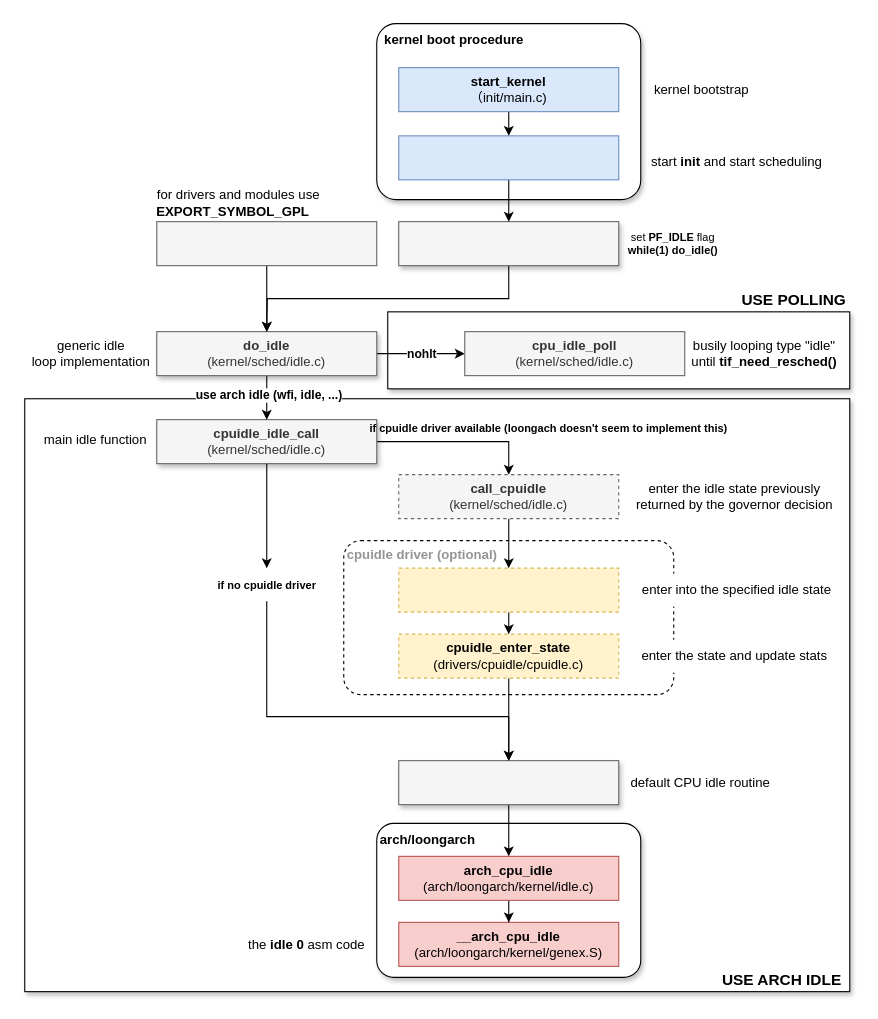
This 878x1019 diagram has some shape labels left out. The shapes that lost their labels are listed below. From the top down, each one's centre as x and y in pixels, then its label:
the point at 508,157: rest_init (init/main.c)
the point at 266,243: play_idle_precise (kernel/sched/idle.c)
the point at 509,244: cpu_startup_entry (kernel/sched/idle.c)
the point at 508,589: cpuidle_enter (drivers/cpuidle/cpuidle.c)
the point at 509,783: default_idle_call (kernel/sched/idle.c)
